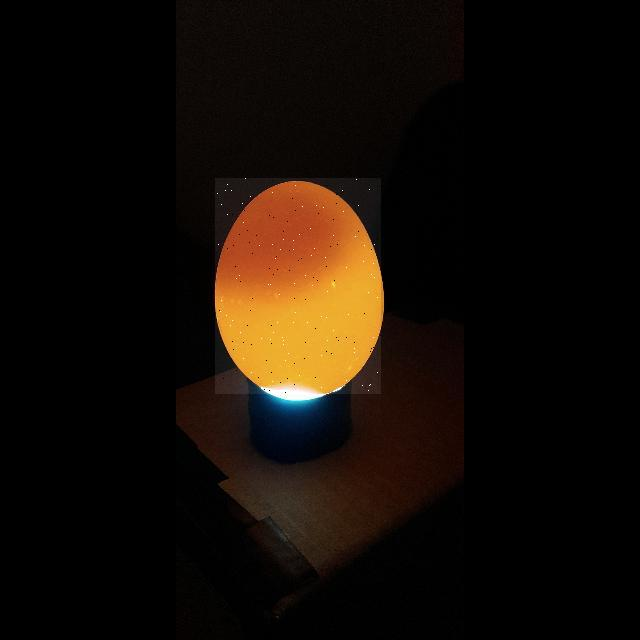A - Good: (215, 178, 381, 394)
